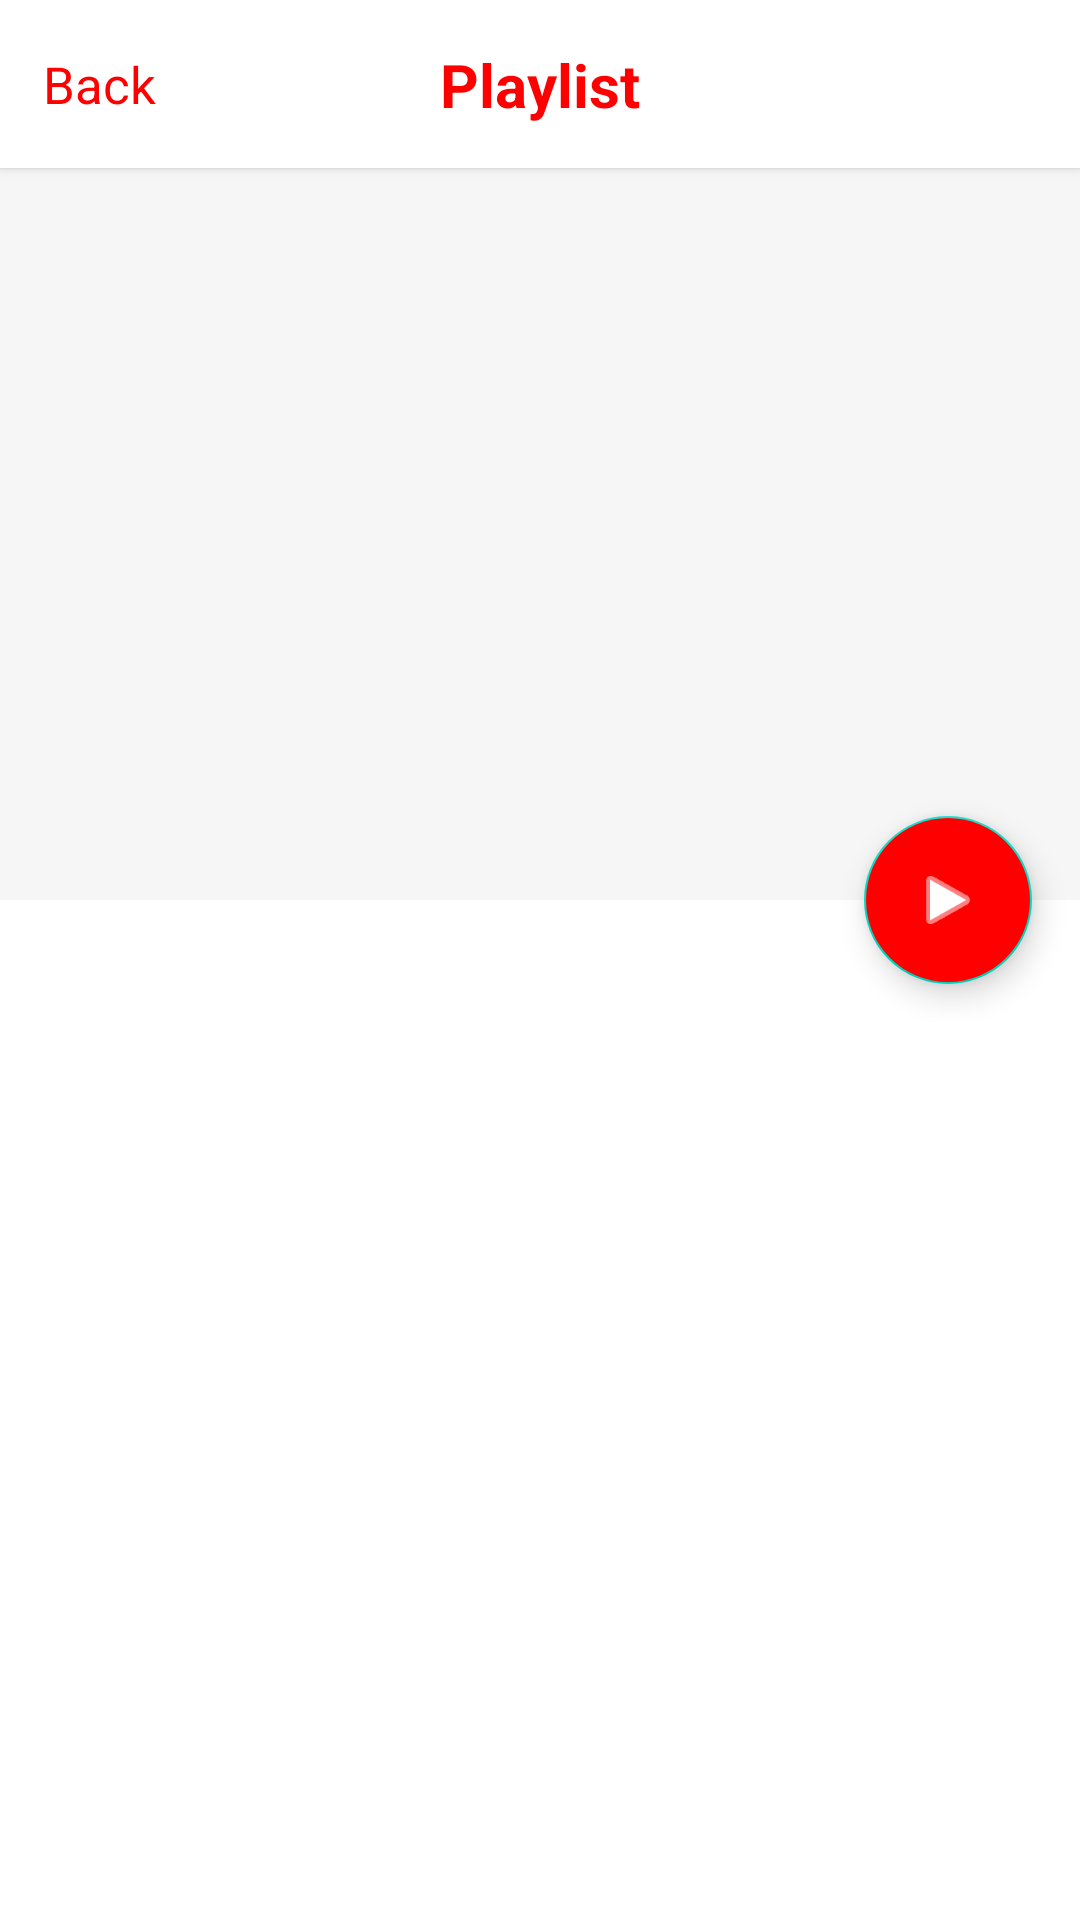

Where to tap for icons on this 1080x1920 app screen, as (x,y):
play: (948,900)
